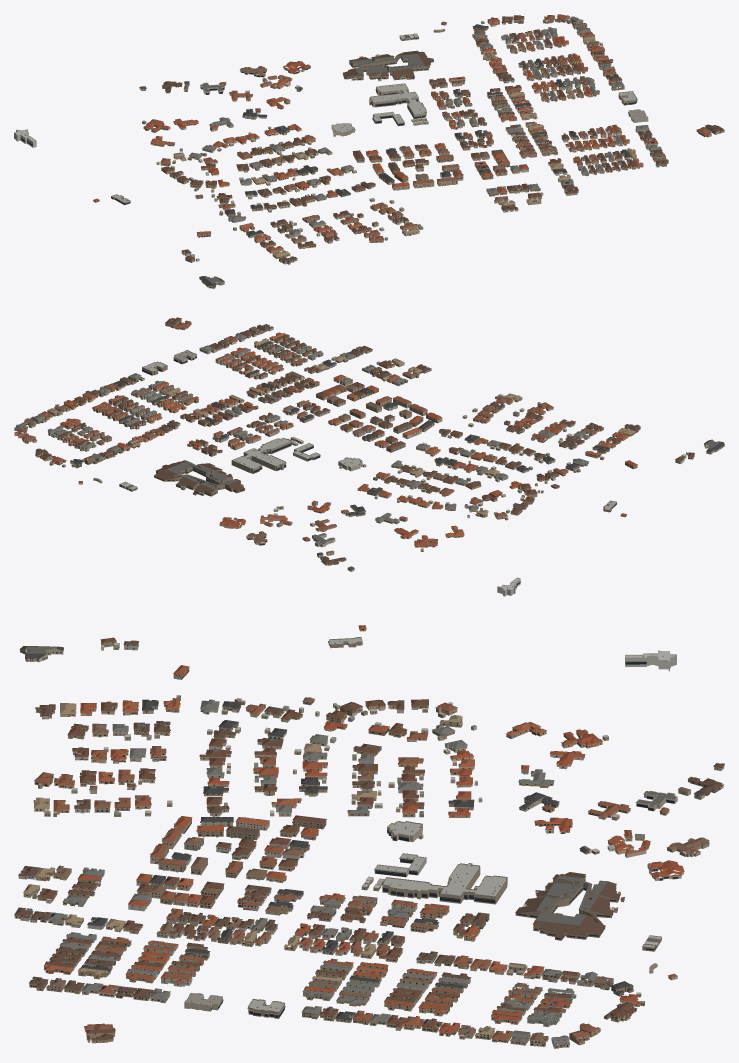
The picture shows the model from 3 angles, top to bottom: view 1: azimuth 30°, elevation 25°; view 2: azimuth 150°, elevation 25°; view 3: azimuth 270°, elevation 25°; orthographic projection. The views are drawn at different scales.
Parts seen in each view (by area): view 1: buildings_r7_c0_lod0; view 2: buildings_r7_c0_lod0; view 3: buildings_r7_c0_lod0.
Part boxes in pixels (left/top/right/bottom): buildings_r7_c0_lod0: left=14, top=14, right=724, bottom=288; buildings_r7_c0_lod0: left=14, top=317, right=724, bottom=596; buildings_r7_c0_lod0: left=14, top=625, right=724, bottom=1048.
Size of the model in its own units: 1123 by 36.65 by 798.
